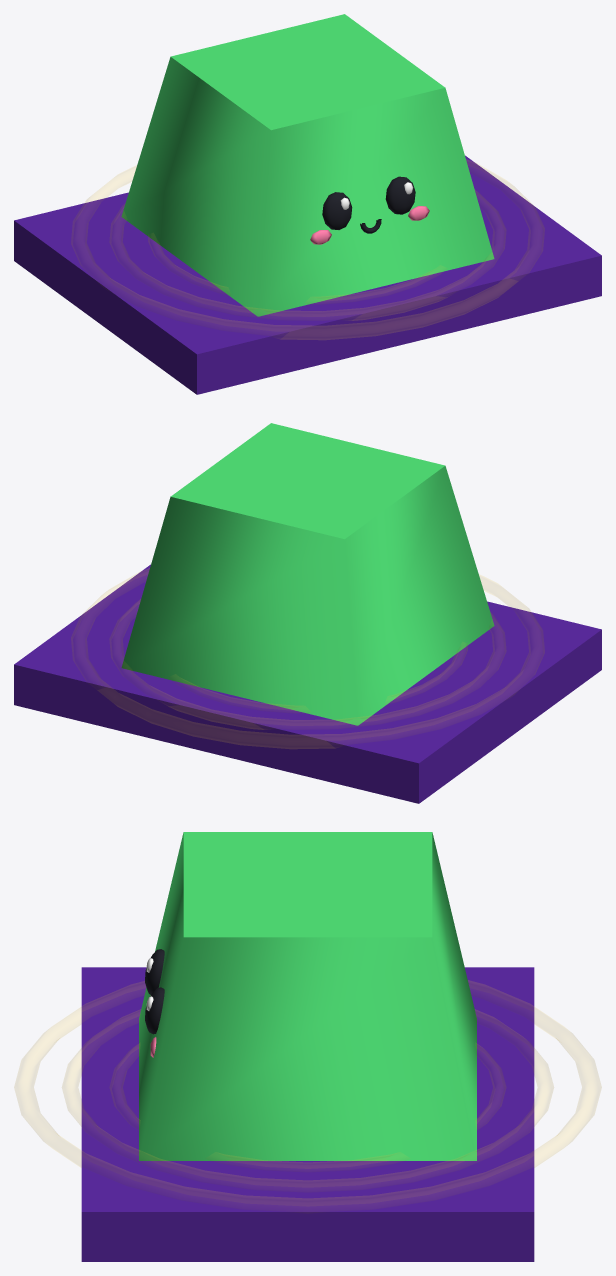
The model's file is 02-fully-accessible.obj.
3 views of the same model, one above another, from view 1: azimuth 30°, elevation 25°; view 2: azimuth 150°, elevation 25°; view 3: azimuth 270°, elevation 25° (orthographic). The views are drawn at different scales.
Parts seen in each view (by area): view 1: keycap, plate, liveRing, eye; view 2: keycap, plate, liveRing; view 3: keycap, plate, liveRing, eye.
Part boxes in pixels (box(x1,y1,x2,y2)): keycap: box(121, 14, 494, 316); plate: box(14, 155, 601, 394); liveRing: box(71, 160, 544, 339); eye: box(322, 176, 415, 229); keycap: box(121, 423, 494, 725); plate: box(14, 564, 601, 803); liveRing: box(71, 569, 544, 748); keycap: box(139, 832, 476, 1160); plate: box(81, 967, 534, 1261); liveRing: box(14, 980, 601, 1205); eye: box(145, 949, 164, 1034).
Size of the model in its own units: 2.34 by 1.12 by 2.34.
